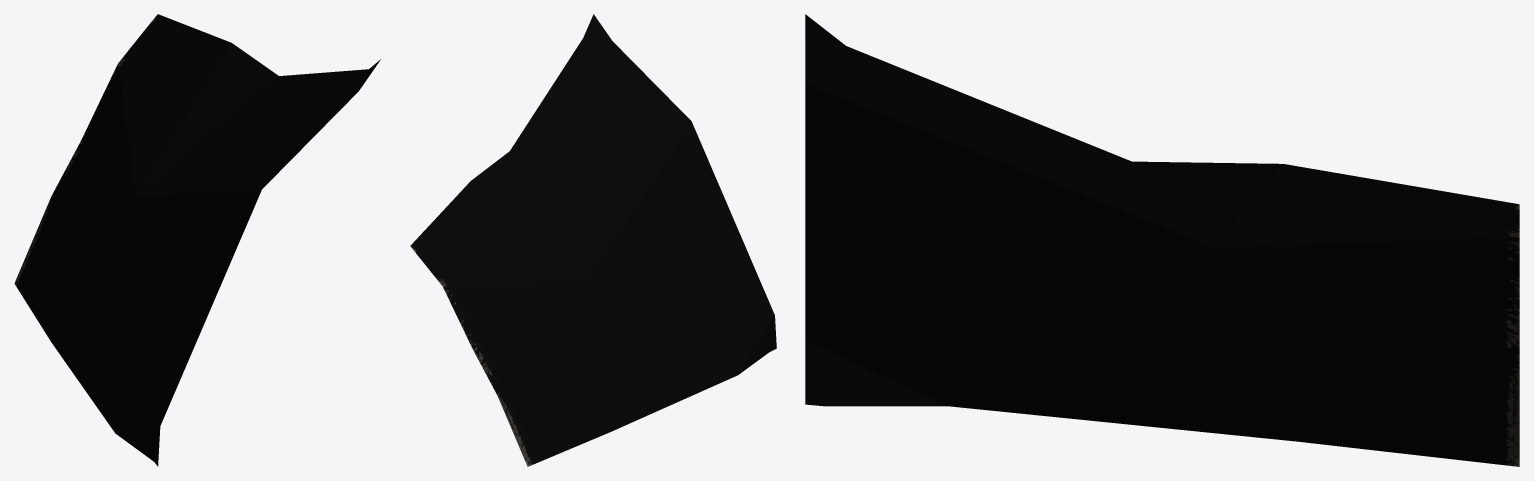
3 views of the same model, side by side, from view 1: azimuth 30°, elevation 25°; view 2: azimuth 150°, elevation 25°; view 3: azimuth 270°, elevation 25° (orthographic). The views are drawn at different scales.
Bounding box in the file's own units: 0.9652 × 1.46 × 1.67.
Materials: 2 (2 with a texture image).
